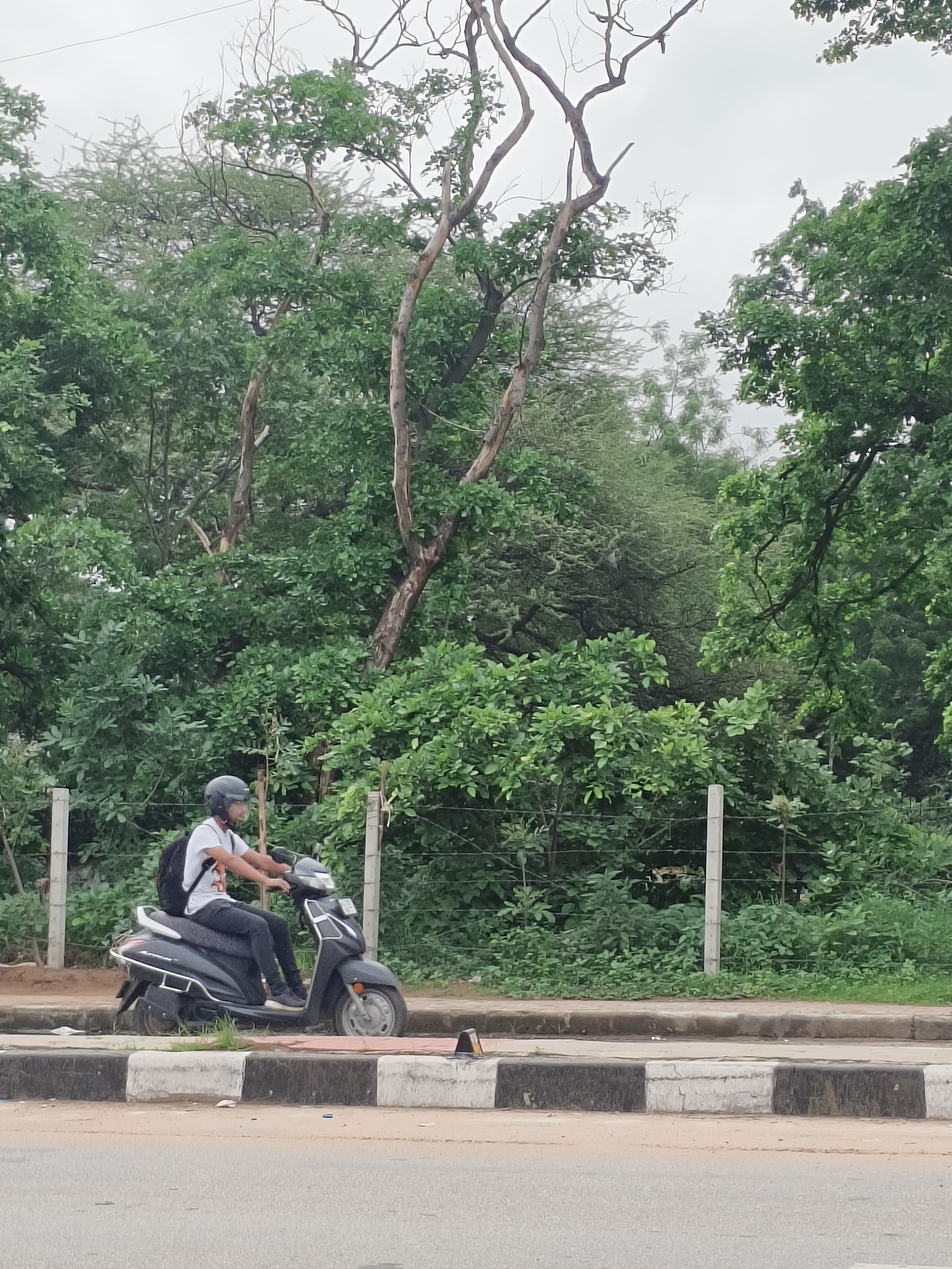BikeWithRider: (102, 768, 419, 1050)
Helmet: (197, 770, 255, 829)
